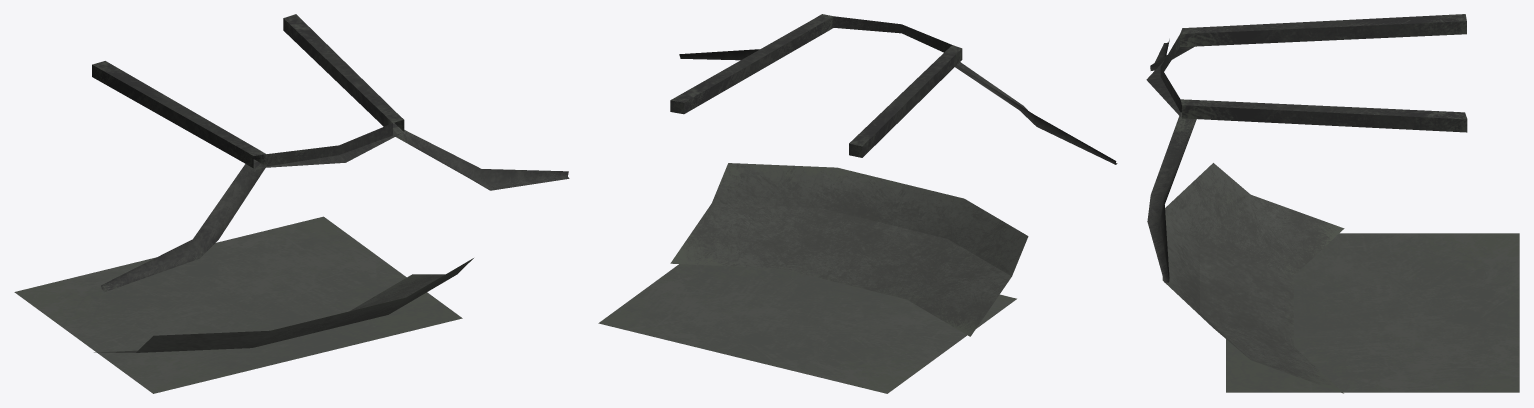
The model's file is Cockpit.fbx.
3 renders of one model, left to right at view 1: azimuth 30°, elevation 25°; view 2: azimuth 150°, elevation 25°; view 3: azimuth 270°, elevation 25°, orthographic. The views are drawn at different scales.
Parts seen in each view (by area): view 1: polySurface2; view 2: polySurface2; view 3: polySurface2.
Part boxes in pixels (x1,y1,x2,y2): polySurface2: [14, 14, 569, 393]; polySurface2: [598, 14, 1117, 393]; polySurface2: [1146, 14, 1519, 393].
Size of the model in its own units: 15.25 by 7.27 by 9.99.
Materials: 1 (1 with a texture image).
